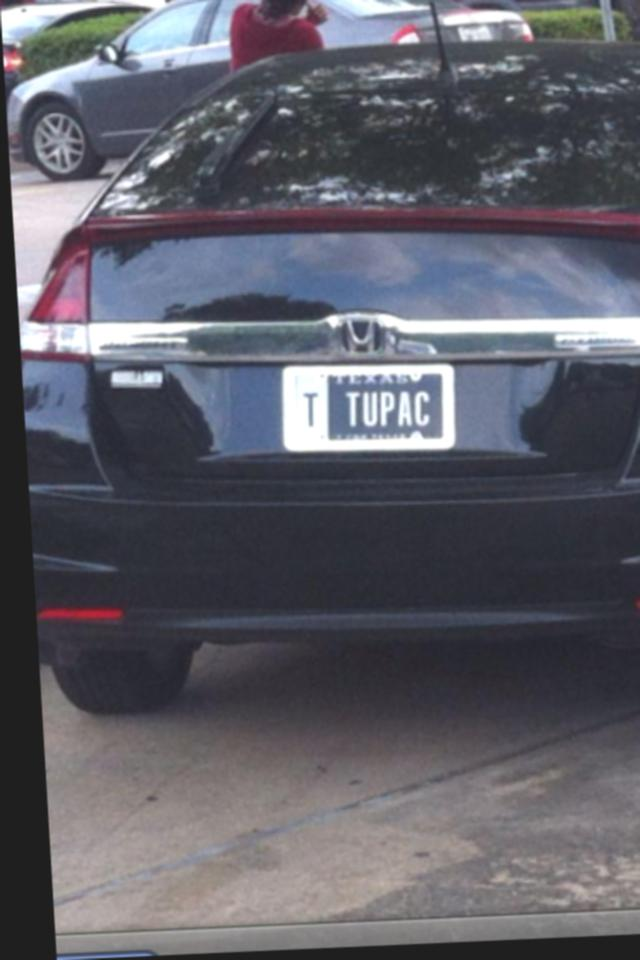License_Plate: (271, 348, 470, 464)
